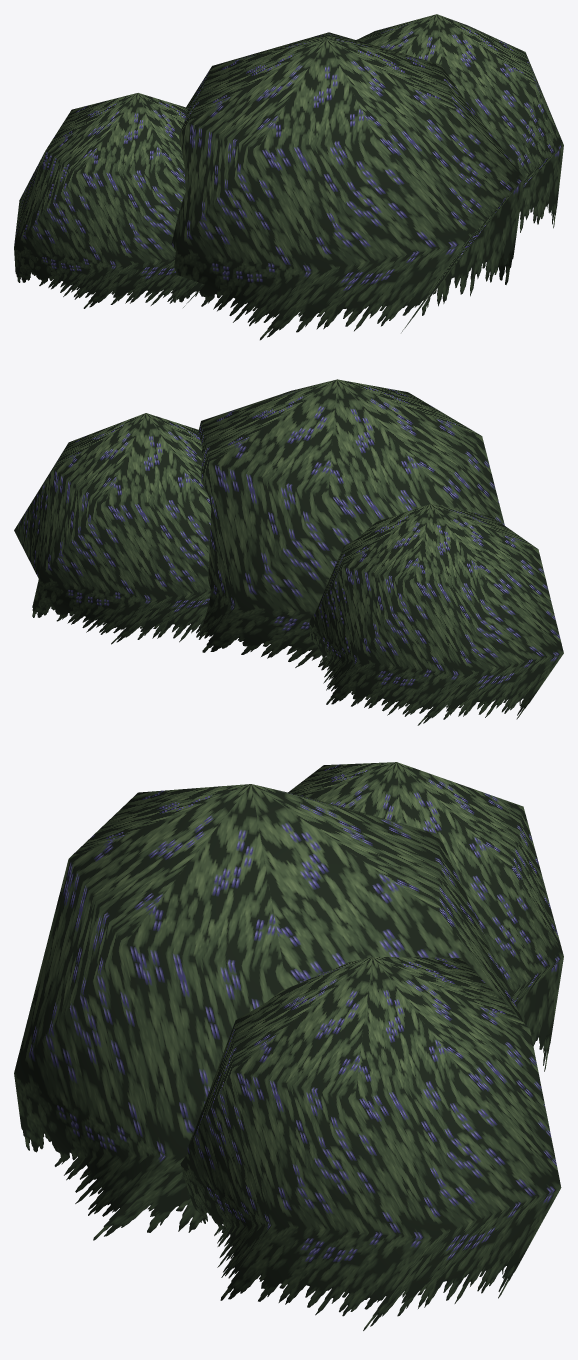
The model's file is BerryBushLow.fbx.
3 views of the same model, one above another, from view 1: azimuth 30°, elevation 25°; view 2: azimuth 150°, elevation 25°; view 3: azimuth 270°, elevation 25° (orthographic). The views are drawn at different scales.
Parts seen in each view (by area): view 1: BerryBushLow; view 2: BerryBushLow; view 3: BerryBushLow.
Boxes of the visible parts, x1=… form: BerryBushLow: x1=14, y1=14, x2=563, y2=340; BerryBushLow: x1=14, y1=379, x2=563, y2=725; BerryBushLow: x1=14, y1=762, x2=563, y2=1330.
Size of the model in its own units: 1.92 by 0.8707 by 1.13.
